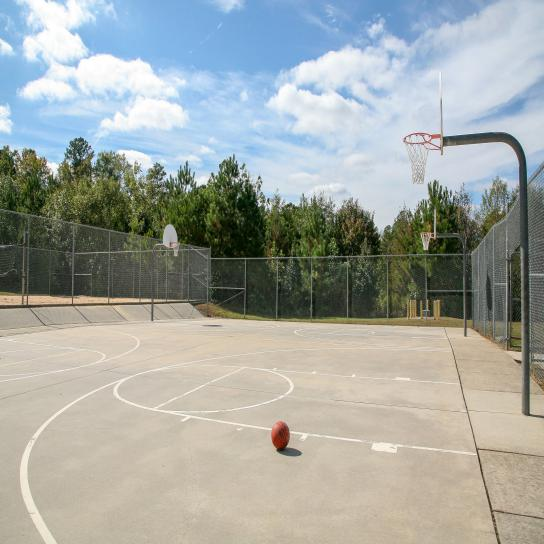basketball-hoop: (403, 131, 433, 187), (420, 230, 432, 251), (171, 240, 181, 256)
